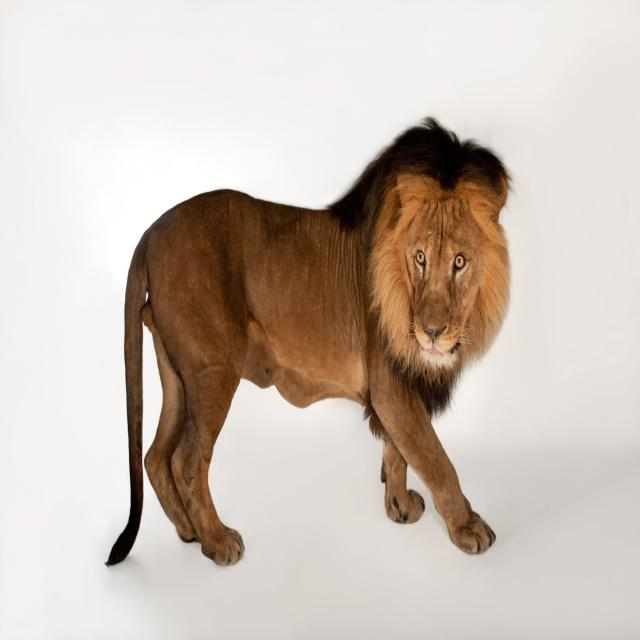Lion: (109, 116, 519, 572)
